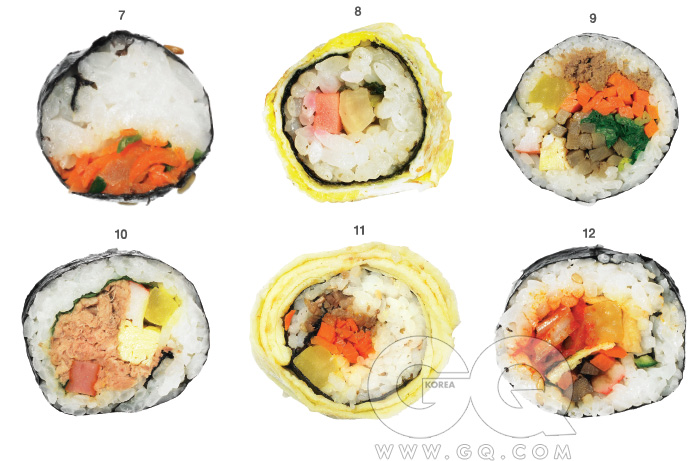gimbab: (251, 241, 460, 420), (257, 23, 454, 202), (493, 242, 686, 418), (17, 247, 211, 414), (35, 30, 218, 207), (494, 30, 680, 203)
